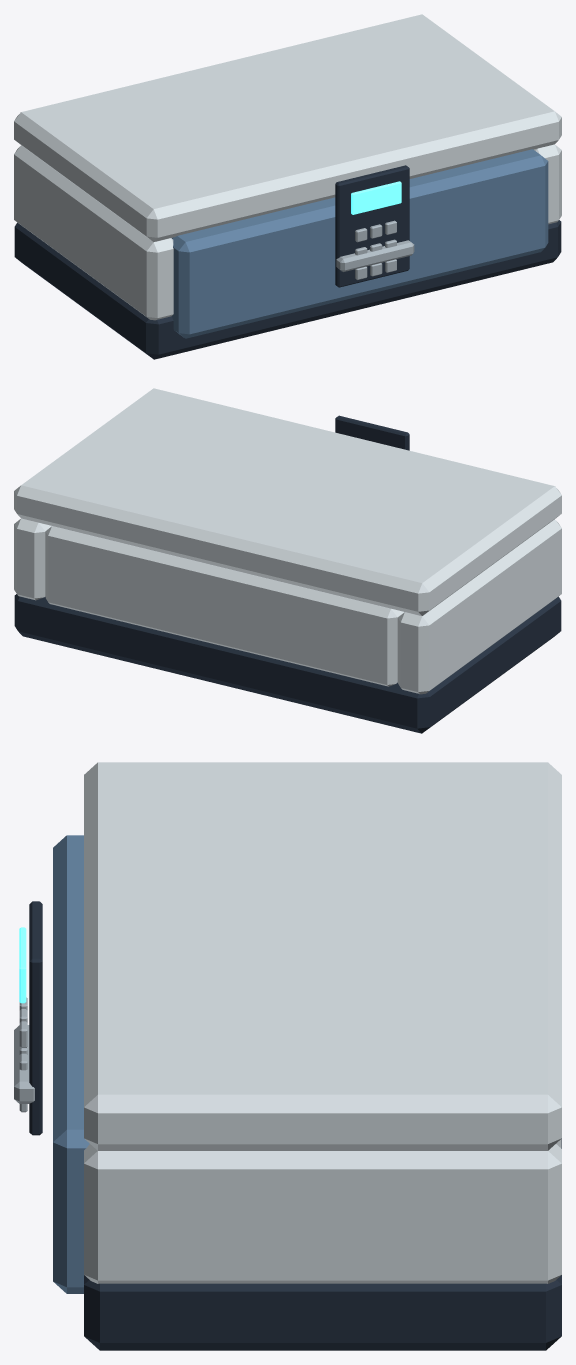
File: safes_11.glb
3 renders of one model, top to bottom at view 1: azimuth 30°, elevation 25°; view 2: azimuth 150°, elevation 25°; view 3: azimuth 270°, elevation 25°, orthographic. The views are drawn at different scales.
Parts seen in each view (by area): view 1: Top, DrawerFace, Side (×2), Base, KeypadPanel, Handle, TinyScreen; view 2: Top, Back, Base, Side (×2), KeypadPanel; view 3: Top, Side, Base, DrawerFace, KeypadPanel, Handle.
Boxes of the visible parts, x1,y1,x2,y2 form: Top: (14, 14, 561, 241); DrawerFace: (171, 149, 548, 338); Side (×2): (14, 144, 561, 320); Base: (14, 220, 561, 359); KeypadPanel: (335, 165, 409, 287); Handle: (336, 240, 414, 271); TinyScreen: (351, 181, 401, 214); Top: (14, 388, 561, 615); Back: (45, 526, 404, 686); Base: (14, 594, 561, 733); Side (×2): (14, 518, 561, 694); KeypadPanel: (335, 415, 409, 450); Top: (84, 762, 561, 1150); Side: (84, 1144, 561, 1283); Base: (84, 1138, 561, 1350); DrawerFace: (53, 835, 89, 1293); KeypadPanel: (29, 901, 42, 1135); Handle: (14, 1025, 34, 1103).
Bounding box in the file's own units: 0.92 × 0.32 × 0.619.
